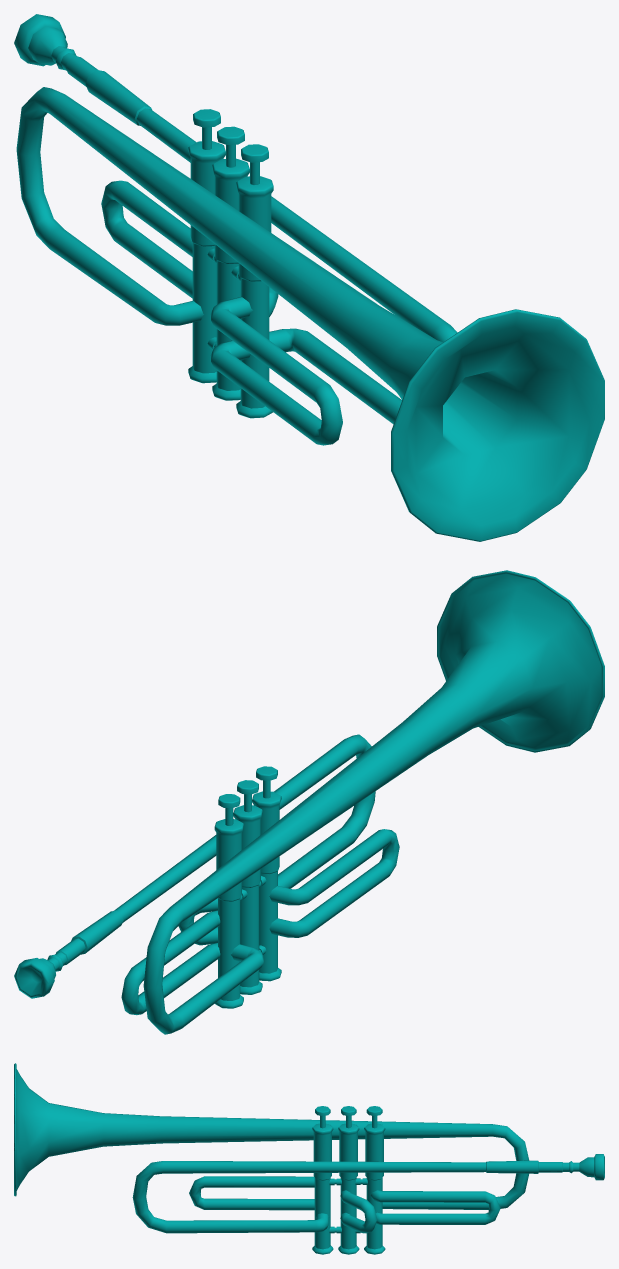
The model's file is trumpet.fbx.
3 renders of one model, top to bottom at view 1: azimuth 30°, elevation 25°; view 2: azimuth 150°, elevation 25°; view 3: azimuth 270°, elevation 25°, orthographic. The views are drawn at different scales.
Parts seen in each view (by area): view 1: trumpet; view 2: trumpet; view 3: trumpet.
Part boxes in pixels (x1,y1,x2,y2): trumpet: (14,14,604,541); trumpet: (14,570,604,1034); trumpet: (14,1063,604,1254).
Size of the model in its own units: 13.69 by 19.08 by 59.96.
